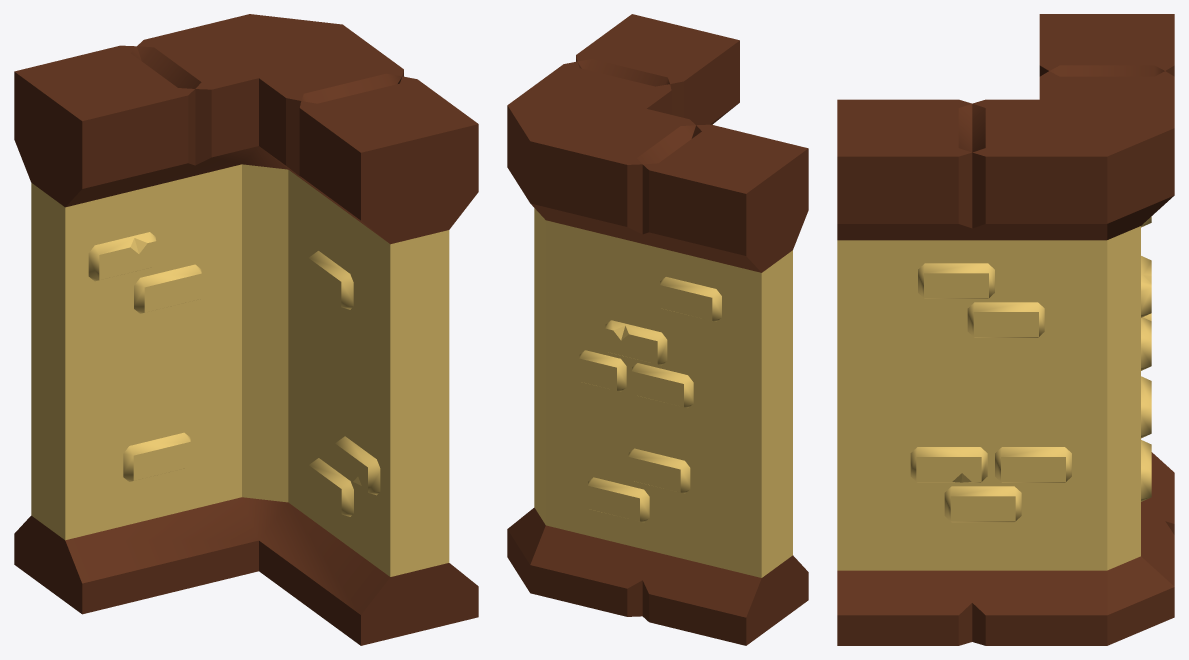
The model's file is wall_corner.fbx.
3 renders of one model, left to right at view 1: azimuth 30°, elevation 25°; view 2: azimuth 150°, elevation 25°; view 3: azimuth 270°, elevation 25°, orthographic. The views are drawn at different scales.
Visible parts, largest first — view 1: wall_corner; view 2: wall_corner; view 3: wall_corner.
Boxes of the visible parts, bbox=[...] form: wall_corner: bbox=[14, 14, 478, 645]; wall_corner: bbox=[507, 14, 808, 645]; wall_corner: bbox=[837, 14, 1174, 645].
Size of the model in its own units: 250 by 400 by 250.
